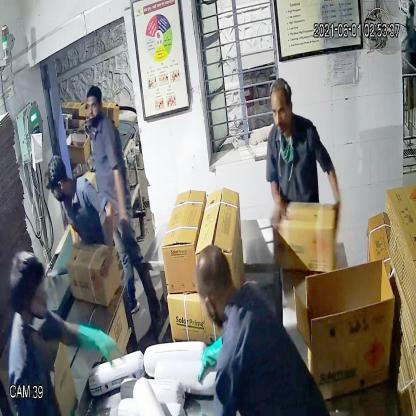no_goggles: (267, 100, 294, 122)
